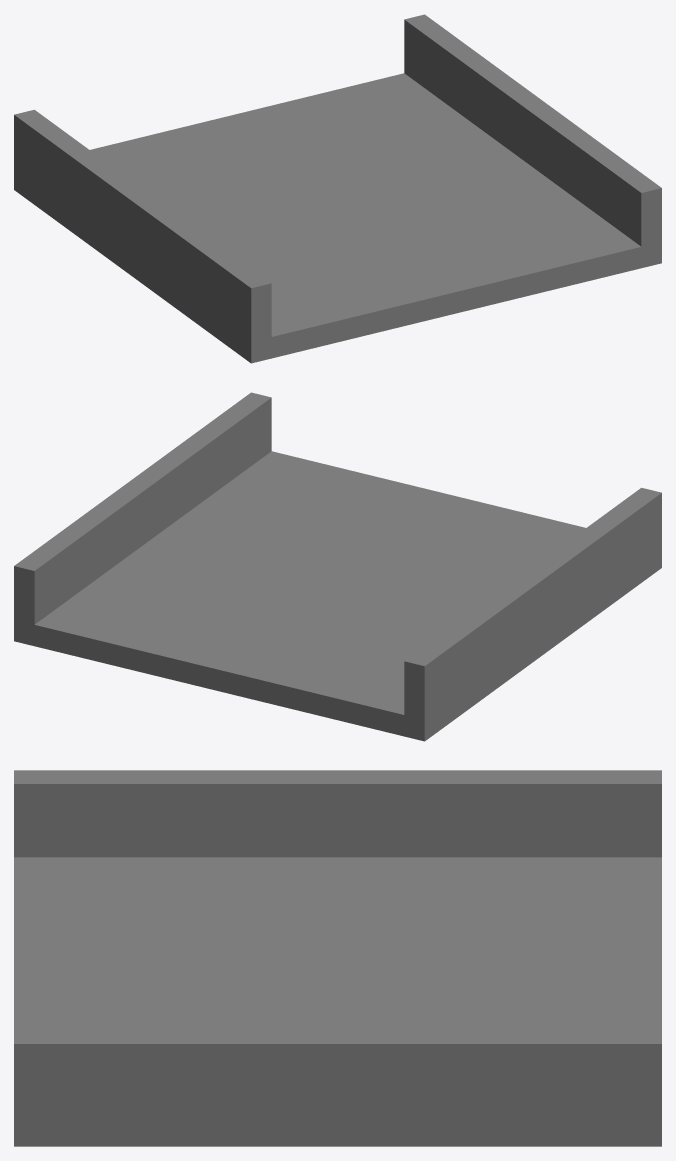
Rendered from GreyRoof_2Edges.glb.
The picture shows the model from 3 angles, top to bottom: view 1: azimuth 30°, elevation 25°; view 2: azimuth 150°, elevation 25°; view 3: azimuth 270°, elevation 25°; orthographic projection. The views are drawn at different scales.
Parts seen in each view (by area): view 1: roof_flat_2Edges_grey; view 2: roof_flat_2Edges_grey; view 3: roof_flat_2Edges_grey.
Part boxes in pixels (box(x1,y1,x2,y2)): roof_flat_2Edges_grey: box(14, 14, 661, 363); roof_flat_2Edges_grey: box(14, 392, 661, 741); roof_flat_2Edges_grey: box(14, 770, 661, 1146).
Size of what is drawn, in the model's own units: 4 by 0.7 by 4.
1 material, 1 textured.
